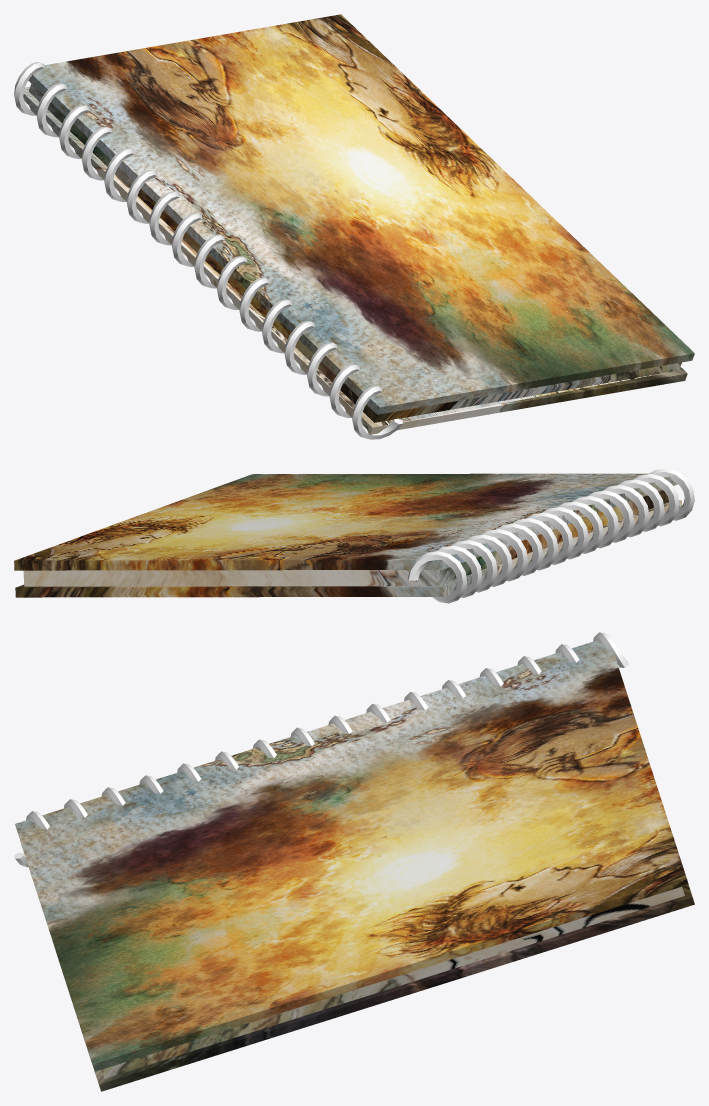
The model's file is book.glb.
The picture shows the model from 3 angles, top to bottom: view 1: azimuth 30°, elevation 25°; view 2: azimuth 150°, elevation 25°; view 3: azimuth 270°, elevation 25°; orthographic projection. The views are drawn at different scales.
Visible parts, largest first — view 1: Book, Spine; view 2: Book, Spine; view 3: Book, Spine.
Part boxes in pixels (x1,y1,x2,y2): Book: (23,14,694,434); Spine: (14,62,402,439); Book: (14,473,681,597); Spine: (407,468,694,603); Book: (15,640,694,1091); Spine: (14,632,628,867).
Bounding box in the file's own units: 1.37 × 0.7179 × 1.78.
2 materials, 1 textured.
